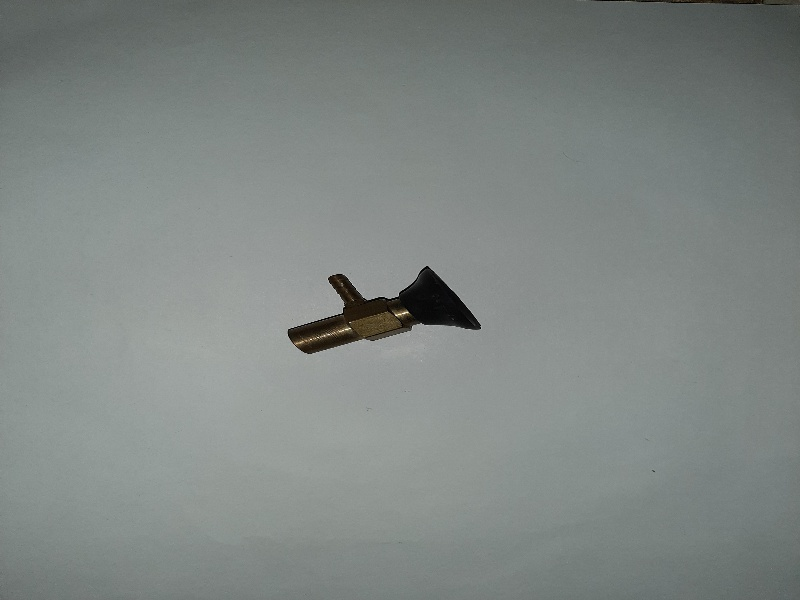Joint Hold: (283, 265, 484, 358)
